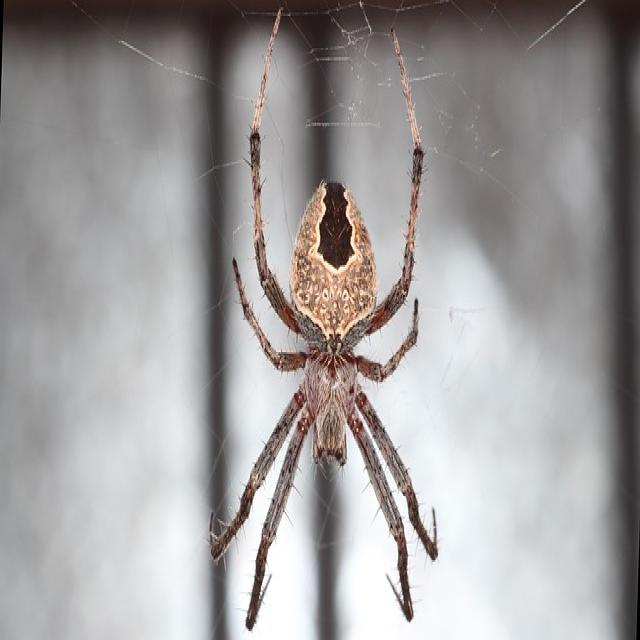spyder: (211, 11, 438, 628)
